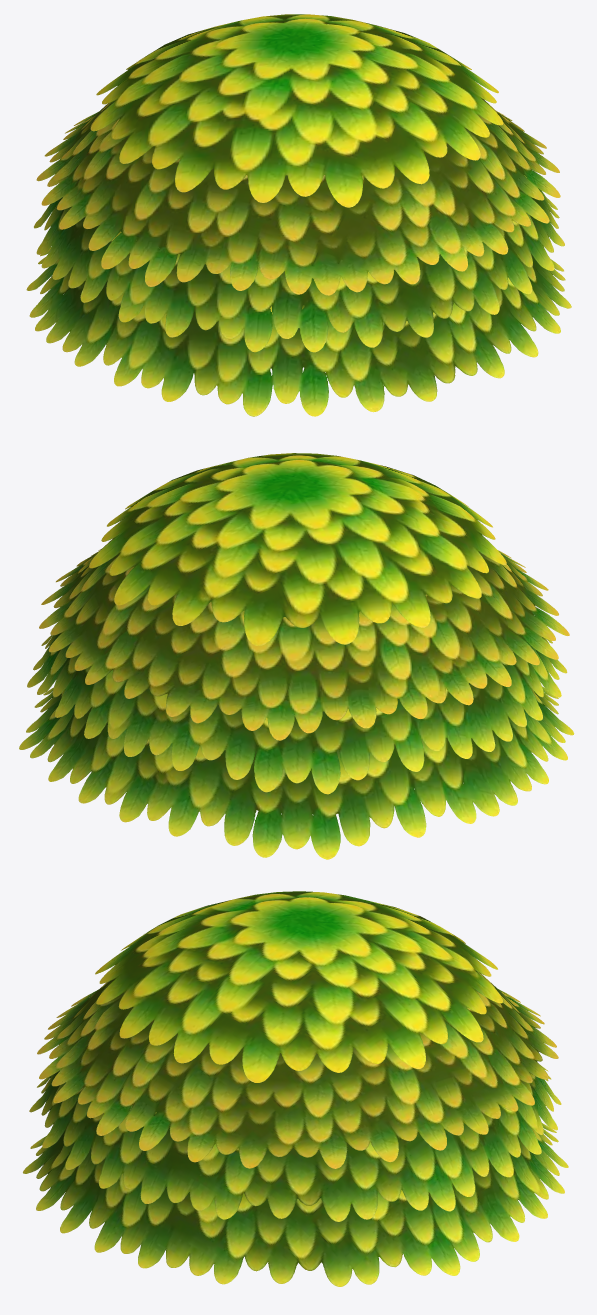
File: stylized-bush-50a50c.glb
3 renders of one model, top to bottom at view 1: azimuth 30°, elevation 25°; view 2: azimuth 150°, elevation 25°; view 3: azimuth 270°, elevation 25°, orthographic.
Parts seen in each view (by area): view 1: Object_4; view 2: Object_4; view 3: Object_4.
Part boxes in pixels (box(x1,y1,x2,y2)): Object_4: box(26, 14, 571, 416); Object_4: box(19, 453, 574, 859); Object_4: box(23, 891, 568, 1286).
Bounding box in the file's own units: 1.06 × 0.5376 × 1.06.
Materials: 1 (1 with a texture image).
